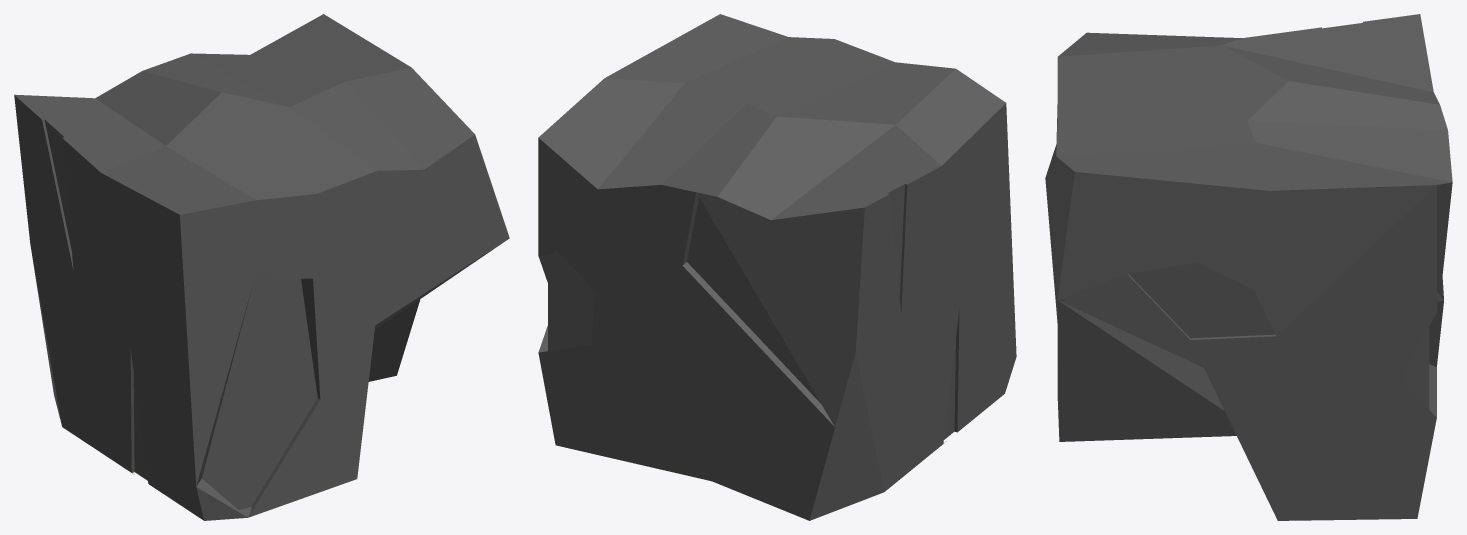
File: Rock_8b.fbx
3 renders of one model, left to right at view 1: azimuth 30°, elevation 25°; view 2: azimuth 150°, elevation 25°; view 3: azimuth 270°, elevation 25°, orthographic. The views are drawn at different scales.
Visible parts, largest first — view 1: Rock_8b; view 2: Rock_8b; view 3: Rock_8b.
Boxes of the visible parts, bbox=[...] form: Rock_8b: bbox=[14, 14, 509, 520]; Rock_8b: bbox=[538, 14, 1016, 520]; Rock_8b: bbox=[1045, 14, 1452, 520].
Bounding box in the file's own units: 1568 × 1493 × 1542.
